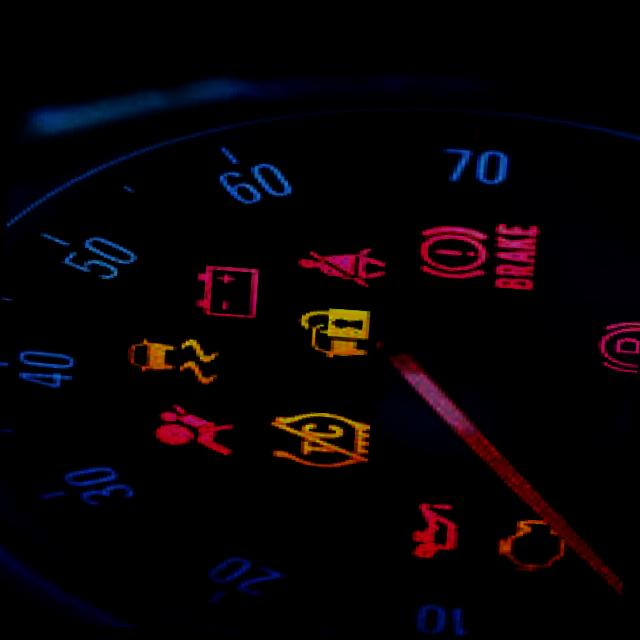kontrolka: (403, 207, 556, 299), (263, 392, 384, 476), (481, 506, 594, 583), (281, 296, 389, 370), (142, 397, 258, 463), (120, 325, 230, 392), (286, 234, 398, 293), (186, 252, 276, 324), (401, 489, 478, 568)
